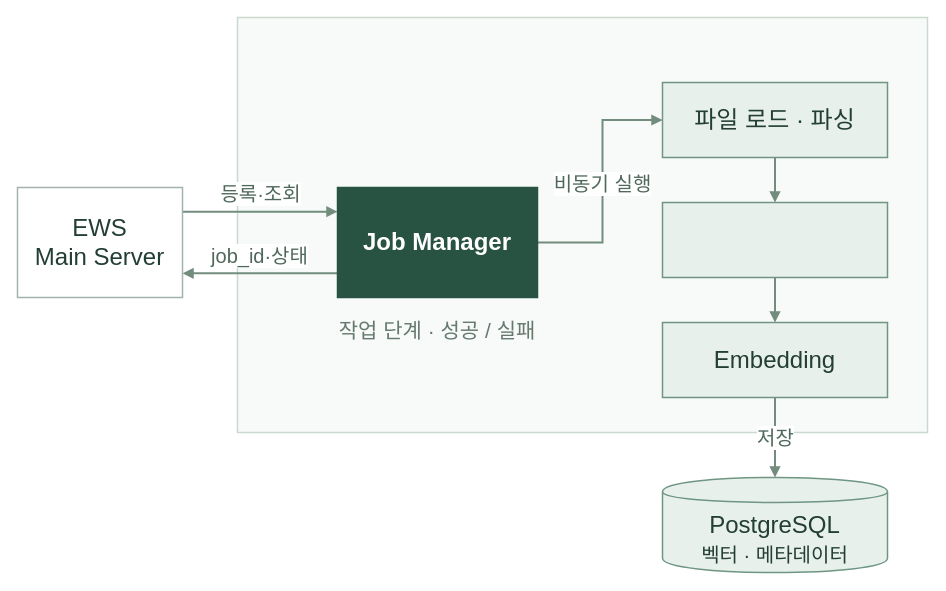
This 946x591 diagram has some shape labels left out. Here are the shapes that lost their labels. From the top down, the box of each, then its label:
(236, 16, 928, 433): Data Ingestion Service
(661, 201, 888, 278): Chunking
